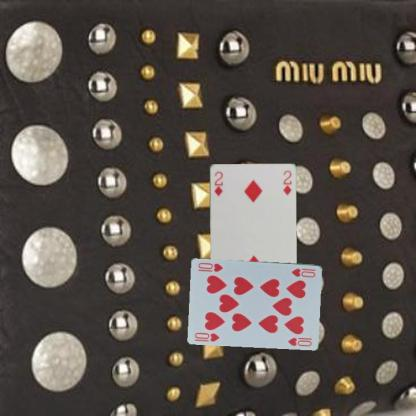10h: (192, 330, 221, 343), (289, 266, 317, 278)
2d: (212, 169, 223, 197)
